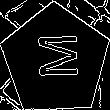M_W: (30, 36, 81, 84)
